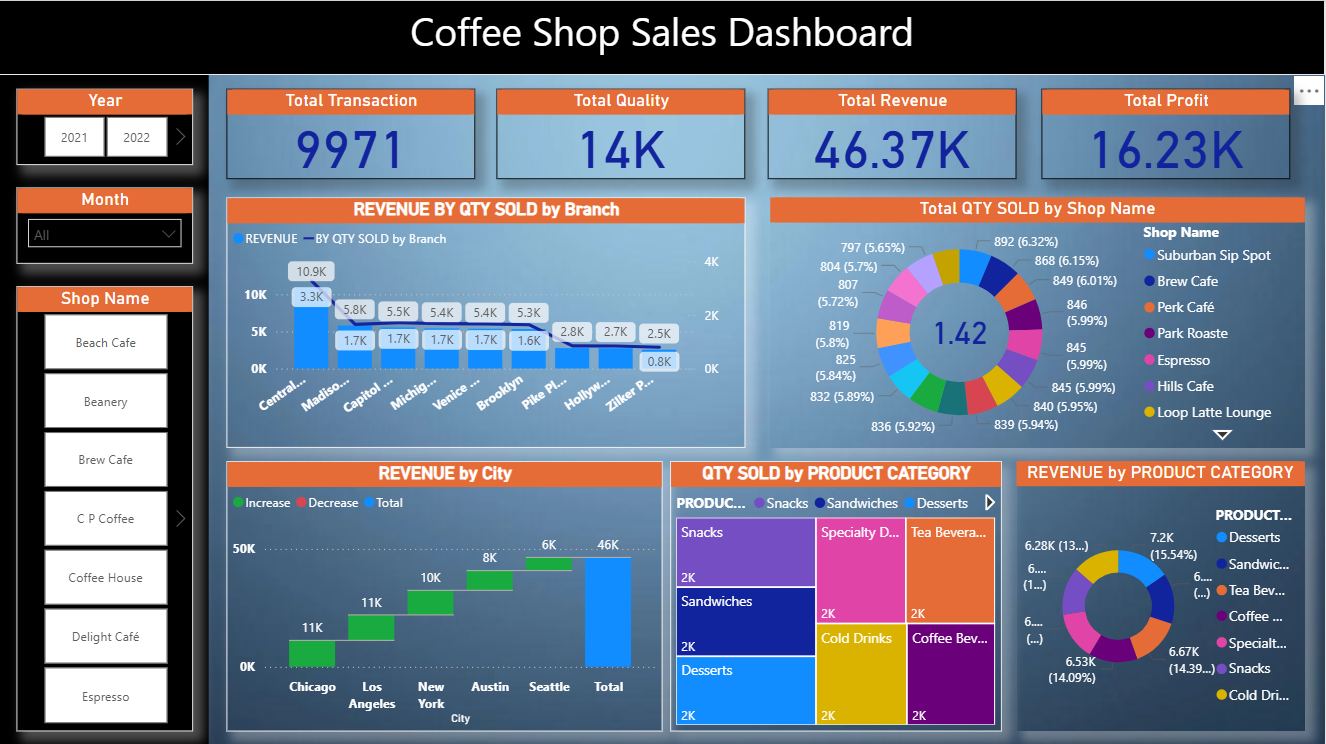

What the dashboard file says about the page in this screenshot:
{"tool":"powerbi","page":{"name":"Page 1","canvas":[1280,720],"ordinal":0},"visuals":[{"type":"shape","box":[0,0,1280,72.4],"z":0},{"type":"shape","box":[0,72.4,202.7,647.9],"z":1000},{"type":"textbox","box":[0,0,1280,72.4],"z":2000},{"type":"card","title":"Total Transaction","fields":{"Values":["CountNonNull(Sheet1.TRANSACTION ID)"]},"box":[219.6,85.7,240,86.9],"z":3000},{"type":"card","title":"Total Quality","fields":{"Values":["Sum(Sheet1.QTY SOLD)"]},"box":[480.2,85.7,240.1,86.9],"z":4000},{"type":"card","title":"Total Revenue","fields":{"Values":["Sum(Sheet1.REVENUE)"]},"box":[742,85.7,240.1,86.9],"z":5000},{"type":"card","title":"Total Profit","fields":{"Values":["Sum(Sheet1.PROFIT MARGIN)"]},"box":[1006.2,85.7,240.1,86.9],"z":6000},{"type":"slicer","title":"Year","fields":{"Values":["Sheet1.DATE.Variation.Date Hierarchy.Year"]},"box":[16.9,85.7,170.1,73.6],"z":7000},{"type":"slicer","title":"Month","fields":{"Values":["Sheet1.DATE.Variation.Date Hierarchy.Month"]},"box":[16.9,181,170.1,73.6],"z":8000},{"type":"slicer","title":"Shop Name","fields":{"Values":["Sheet1.Shop Name"]},"box":[16.9,276.3,170.1,429.5],"z":9000},{"type":"lineStackedColumnComboChart","title":"REVENUE BY QTY SOLD by Branch","fields":{"Category":["Sheet1.Branch"],"Y":["Sum(Sheet1.REVENUE)"],"Y2":["Sum(Sheet1.QTY SOLD)"]},"box":[219.6,190.6,500.7,241.3],"z":10000},{"type":"donutChart","title":"Total QTY SOLD by Shop Name","fields":{"Y":["Sum(Sheet1.QTY SOLD)"],"Category":["Sheet1.Shop Name"]},"box":[744.4,190.6,516.4,241.3],"z":11000},{"type":"card","title":"Total Quality","fields":{"Values":["Avg(Sheet1.QTY SOLD)"]},"box":[807.1,276.3,240.1,86.9],"z":12000},{"type":"waterfallChart","title":"REVENUE by City","fields":{"Category":["Sheet1.City"],"Y":["Sum(Sheet1.REVENUE)"]},"box":[219.6,445.2,421,260.6],"z":13000},{"type":"treemap","title":"QTY SOLD by PRODUCT CATEGORY","fields":{"Group":["Sheet1.PRODUCT CATEGORY"],"Values":["Sum(Sheet1.QTY SOLD)"]},"box":[647.9,445.2,319.7,260.6],"z":14000},{"type":"donutChart","title":"REVENUE by PRODUCT CATEGORY","fields":{"Category":["Sheet1.PRODUCT CATEGORY"],"Y":["Sum(Sheet1.REVENUE)"]},"box":[982,445,278,261],"z":14001}]}

Visuals, with their boxes in screenshot pixels (x1, y1, x2, y2), scaled from the page's 1280x720 canvas onto the 1326x744 screenshot:
shape: <region>0, 0, 1325, 75</region>
shape: <region>0, 75, 210, 743</region>
textbox: <region>0, 0, 1325, 75</region>
"Total Transaction" card: <region>227, 89, 476, 178</region>
"Total Quality" card: <region>497, 89, 746, 178</region>
"Total Revenue" card: <region>769, 89, 1017, 178</region>
"Total Profit" card: <region>1042, 89, 1291, 178</region>
"Year" slicer: <region>18, 89, 194, 165</region>
"Month" slicer: <region>18, 187, 194, 263</region>
"Shop Name" slicer: <region>18, 286, 194, 729</region>
"REVENUE BY QTY SOLD by Branch" lineStackedColumnComboChart: <region>227, 197, 746, 446</region>
"Total QTY SOLD by Shop Name" donutChart: <region>771, 197, 1306, 446</region>
"Total Quality" card: <region>836, 286, 1085, 375</region>
"REVENUE by City" waterfallChart: <region>227, 460, 664, 729</region>
"QTY SOLD by PRODUCT CATEGORY" treemap: <region>671, 460, 1002, 729</region>
"REVENUE by PRODUCT CATEGORY" donutChart: <region>1017, 460, 1305, 730</region>
